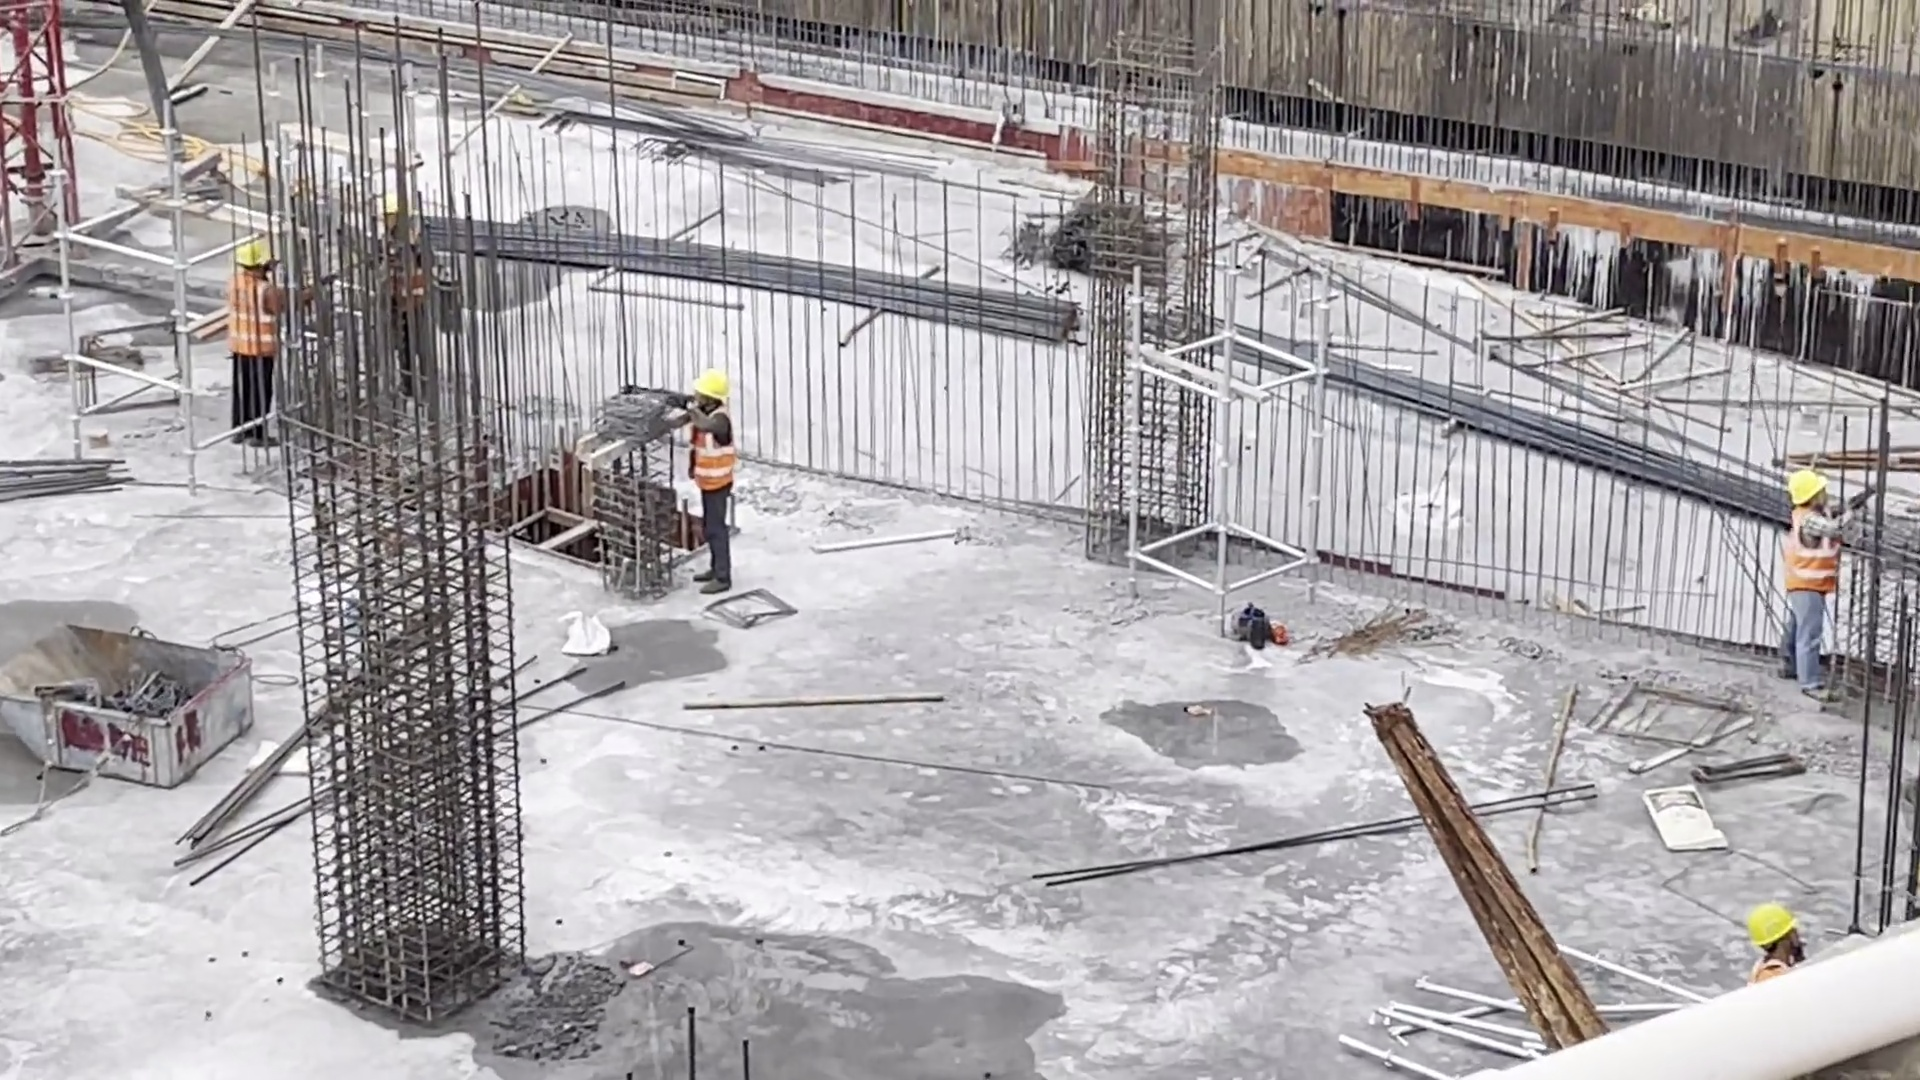helmet: (1737, 896, 1803, 945), (1788, 467, 1831, 503), (690, 363, 731, 399), (233, 237, 272, 265)
hopper: (5, 622, 270, 794)
person: (1771, 467, 1865, 704), (351, 201, 456, 397), (669, 354, 748, 604), (219, 225, 296, 449)
rebar: (1218, 282, 1763, 506), (510, 205, 1079, 347)
vest: (1776, 505, 1849, 600), (224, 278, 282, 360), (683, 414, 741, 492)
